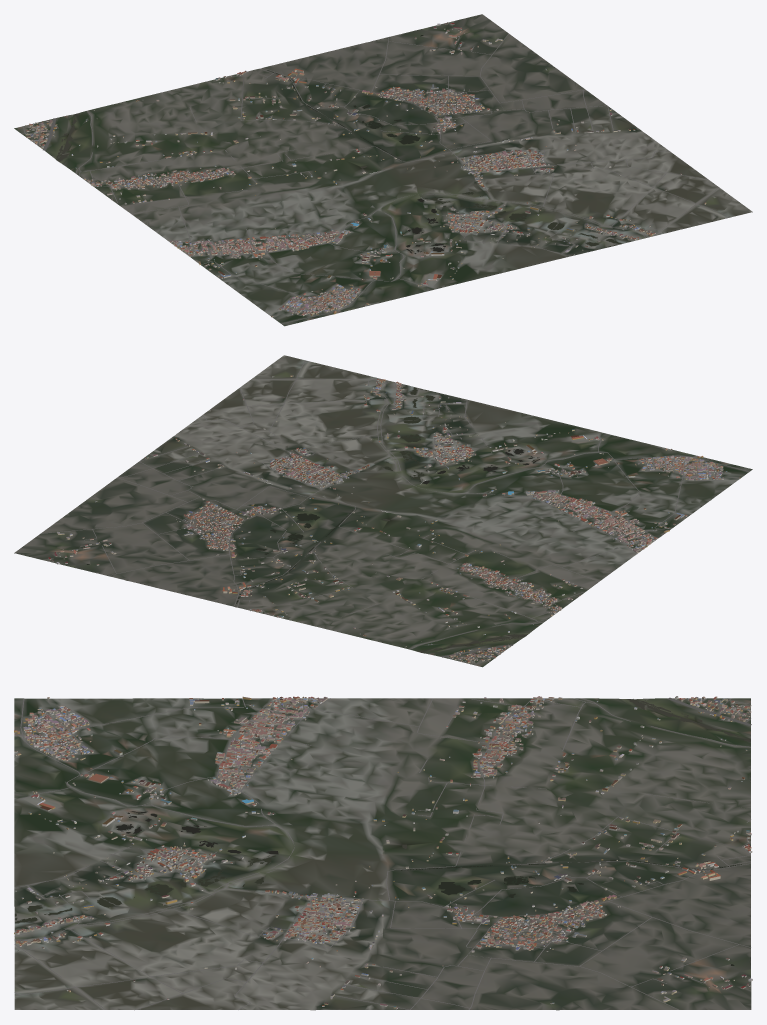
The picture shows the model from 3 angles, top to bottom: view 1: azimuth 30°, elevation 25°; view 2: azimuth 150°, elevation 25°; view 3: azimuth 270°, elevation 25°; orthographic projection. The views are drawn at different scales.
Visible parts, largest first — view 1: ground, buildings, roads, water; view 2: ground, buildings, roads, water; view 3: ground, buildings, roads, water.
Part boxes in pixels (bbox=[...]): ground: bbox=[14, 14, 752, 326]; buildings: bbox=[25, 22, 706, 317]; roads: bbox=[22, 33, 731, 323]; water: bbox=[55, 35, 662, 253]; ground: bbox=[14, 355, 752, 667]; buildings: bbox=[48, 375, 740, 664]; roads: bbox=[41, 360, 749, 664]; water: bbox=[86, 377, 555, 652]; ground: bbox=[14, 698, 751, 1010]; buildings: bbox=[14, 696, 752, 1009]; roads: bbox=[14, 697, 751, 1010]; water: bbox=[14, 699, 750, 965].
Bounding box in the file's own units: 2814 × 17 × 2813.
